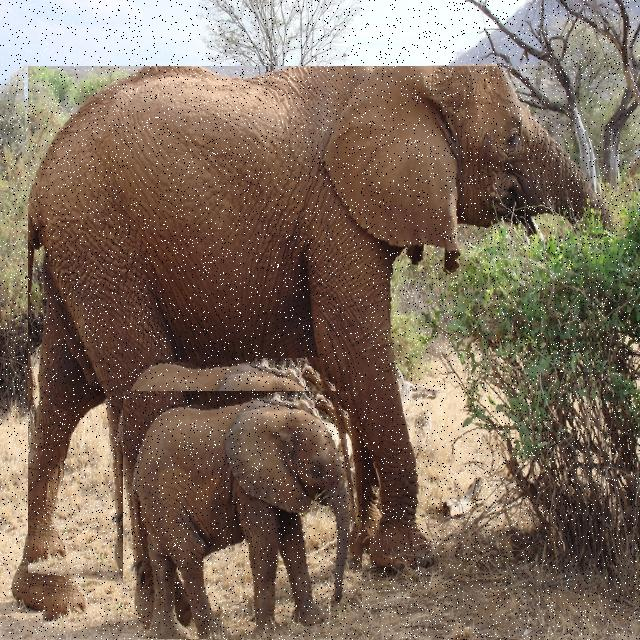elephant: (28, 66, 604, 630), (123, 391, 362, 640)
